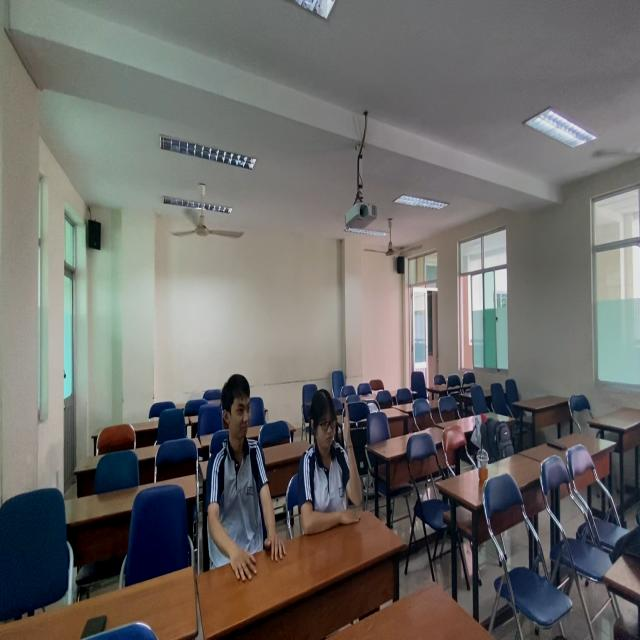raise_hand: (298, 379, 366, 534)
